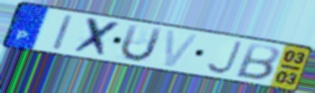B: (233, 41, 282, 82)
I: (50, 13, 76, 52)
J: (204, 39, 244, 76)
U: (118, 22, 165, 63)
V: (163, 29, 202, 69)
X: (70, 16, 124, 60)
